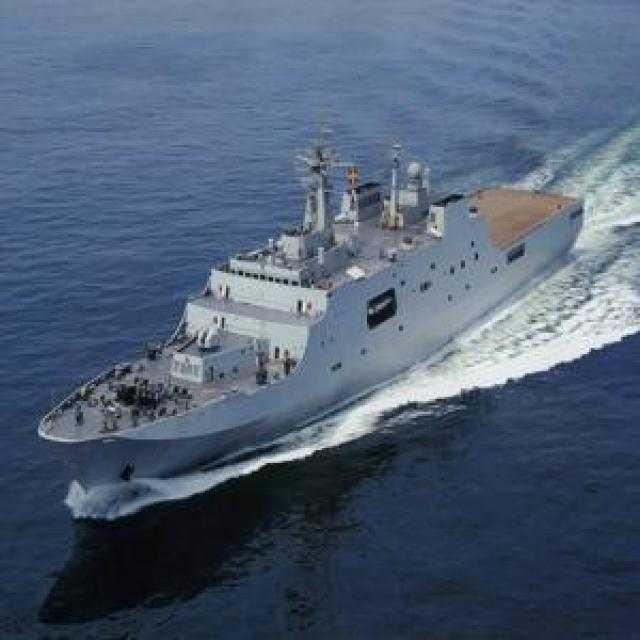navalvessels: (36, 144, 586, 490)
